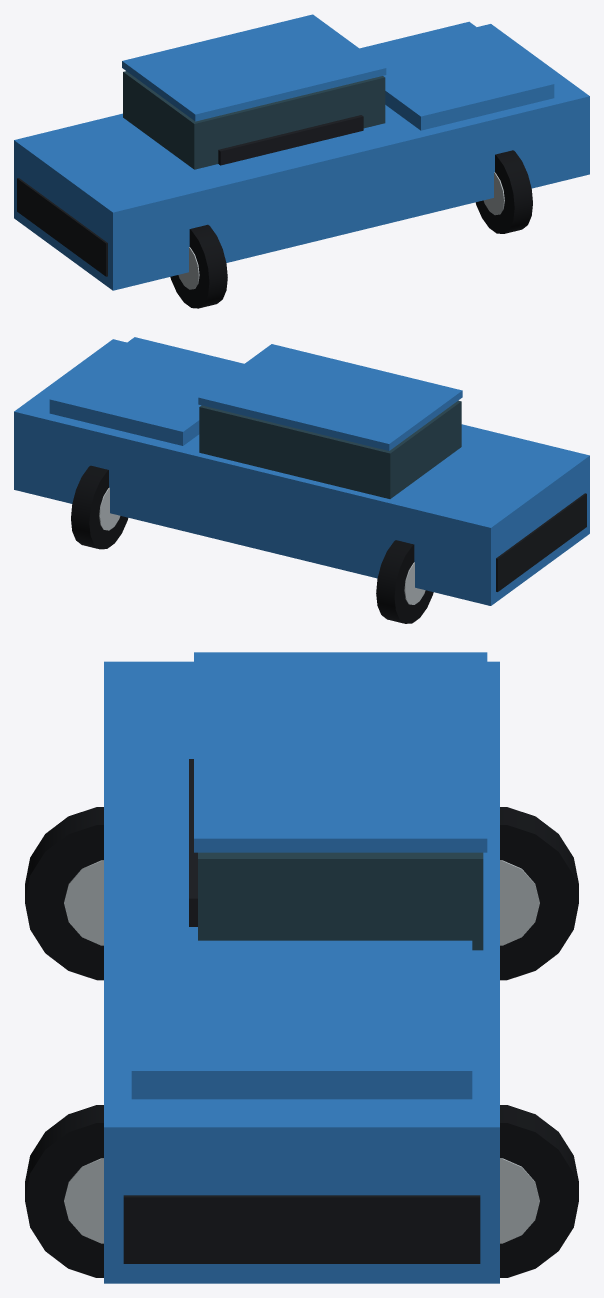
File: ford_f_650.glb
The picture shows the model from 3 angles, top to bottom: view 1: azimuth 30°, elevation 25°; view 2: azimuth 150°, elevation 25°; view 3: azimuth 270°, elevation 25°; orthographic projection. The views are drawn at different scales.
Parts seen in each view (by area): view 1: body, roof, hood, cabin, rear_bumper, rear_right_wheel, front_right_wheel, interior; view 2: body, roof, cabin, hood, rear_bumper, rear_left_wheel, front_left_wheel; view 3: body, roof, hood, cabin, front_bumper, rear_left_wheel, rear_right_wheel, front_left_wheel, front_right_wheel, interior.
Boxes of the visible parts, <box> form: body: <box>14,24,589,290</box>; roof: <box>122,14,386,121</box>; hood: <box>360,21,554,130</box>; cabin: <box>123,71,385,169</box>; rear_bumper: <box>17,178,107,276</box>; rear_right_wheel: <box>170,224,227,308</box>; front_right_wheel: <box>475,150,532,233</box>; interior: <box>218,115,363,165</box>; body: <box>14,339,589,605</box>; roof: <box>198,344,462,450</box>; cabin: <box>199,400,461,498</box>; hood: <box>49,337,244,445</box>; rear_bumper: <box>496,493,586,591</box>; rear_left_wheel: <box>376,540,433,623</box>; front_left_wheel: <box>71,465,128,549</box>; body: <box>104,661,499,1283</box>; roof: <box>194,652,487,852</box>; hood: <box>131,940,472,1099</box>; cabin: <box>198,852,483,950</box>; front_bumper: <box>123,1195,480,1263</box>; rear_left_wheel: <box>500,807,578,980</box>; rear_right_wheel: <box>25,807,103,980</box>; front_left_wheel: <box>500,1105,578,1277</box>; front_right_wheel: <box>25,1105,103,1277</box>; interior: <box>189,759,197,926</box>.
Bounding box in the file's own units: 5.75 × 1.93 × 2.87.
